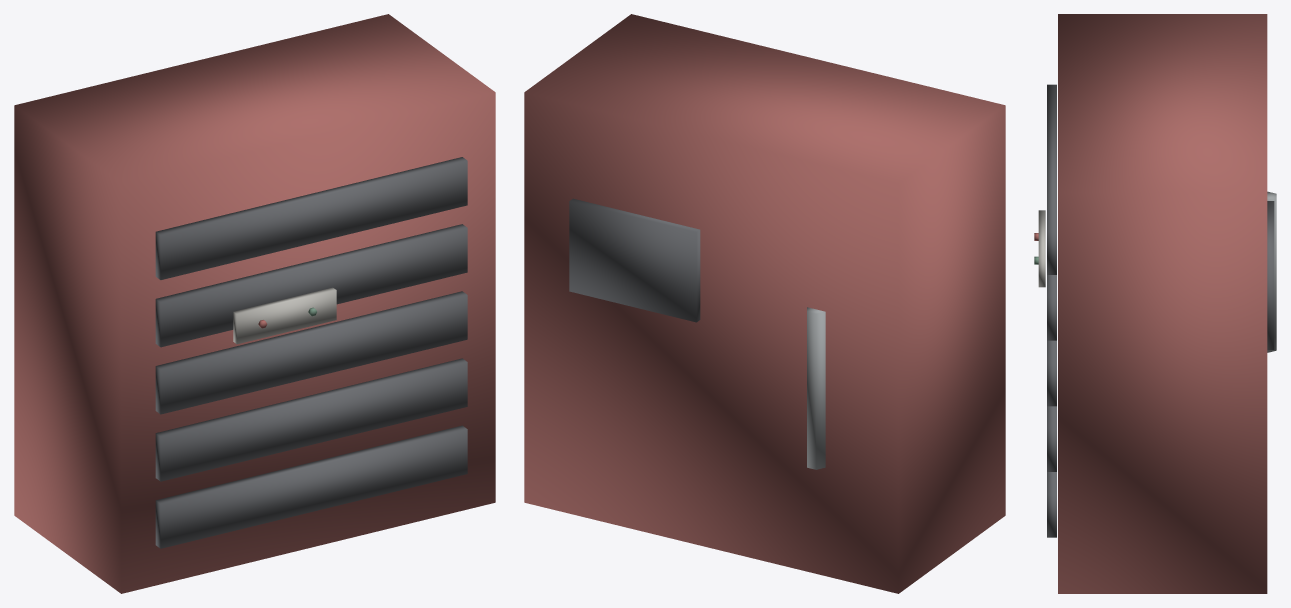
Rendered from tool_cabinet__service.glb.
3 views of the same model, side by side, from view 1: azimuth 30°, elevation 25°; view 2: azimuth 150°, elevation 25°; view 3: azimuth 270°, elevation 25° (orthographic). The views are drawn at different scales.
Parts seen in each view (by area): view 1: world; view 2: world; view 3: world.
Boxes of the visible parts, bbox=[...] form: world: bbox=[14, 14, 495, 593]; world: bbox=[524, 14, 1005, 593]; world: bbox=[1034, 14, 1276, 593].
Bounding box in the file's own units: 1.05 × 1.1 × 0.6012.
